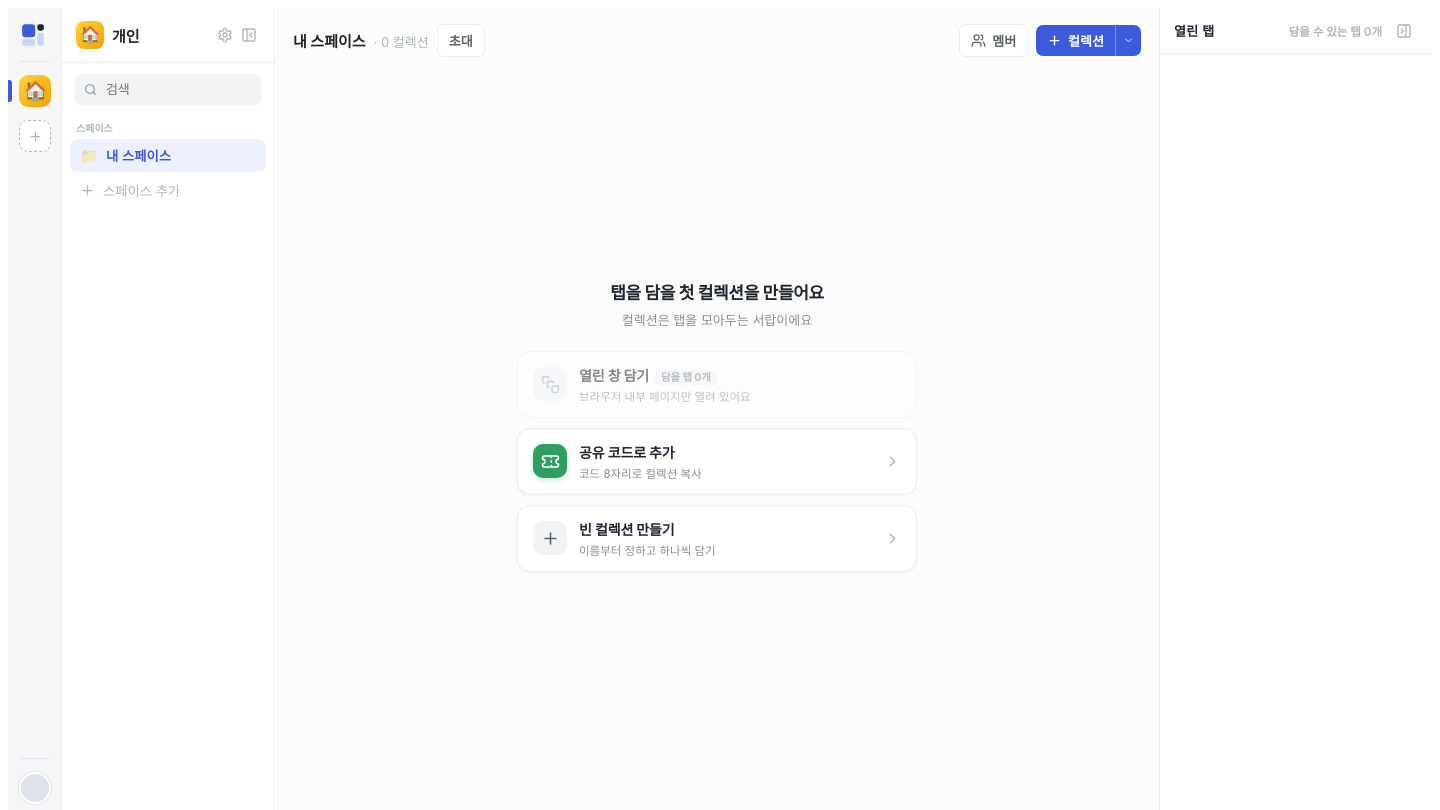
Test: NewTab — 멤버 관리·초대 알림 › 오너 스페이스에서 멤버 버튼을 누르면 멤버 다이얼로그가 열린다
The width and height of the screenshot is (1440, 810).
Step 1. Click the button "멤버" → x=994, y=40, box [959, 24, 1028, 57]
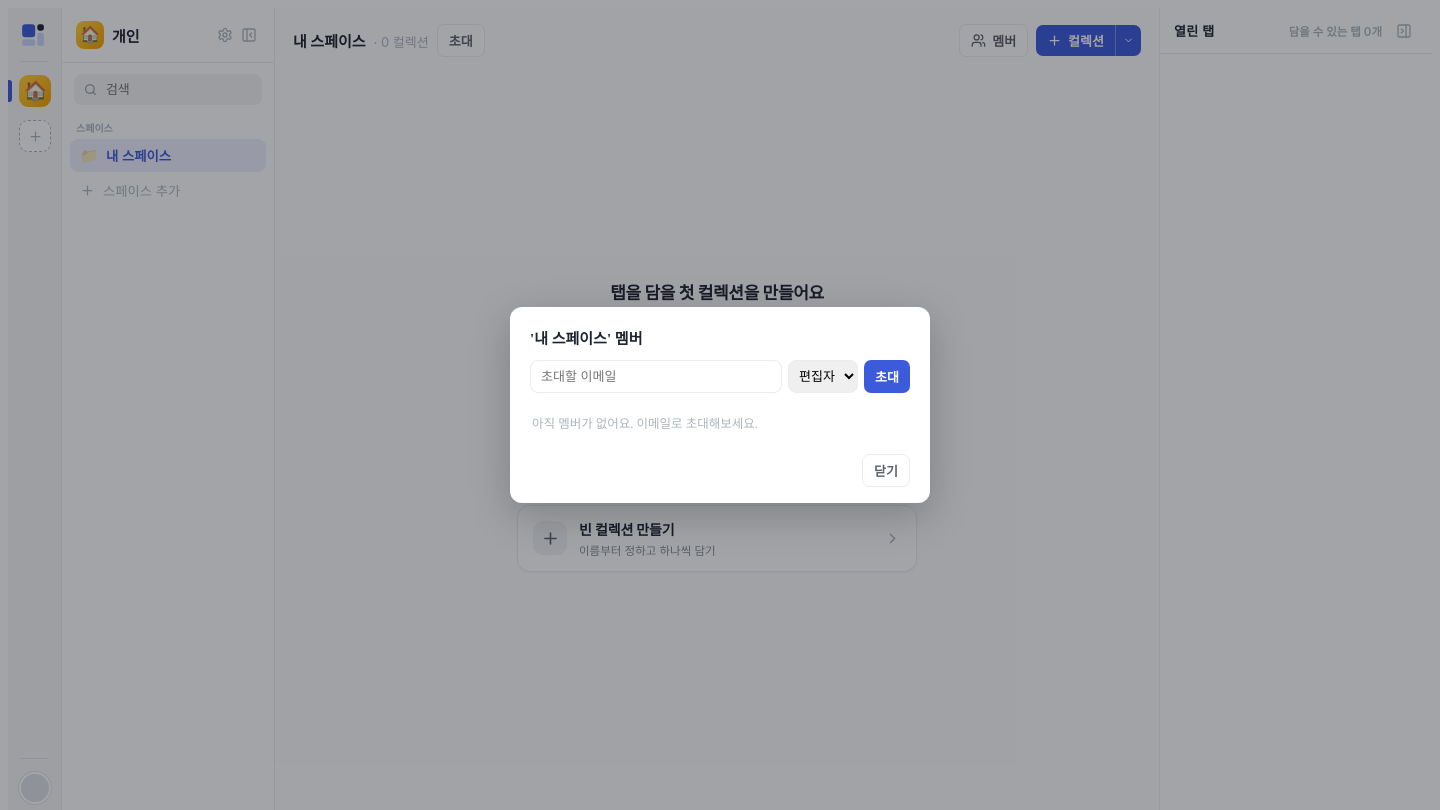
Now the dialog named "멤버 관리" is shown, box [510, 307, 930, 503]
